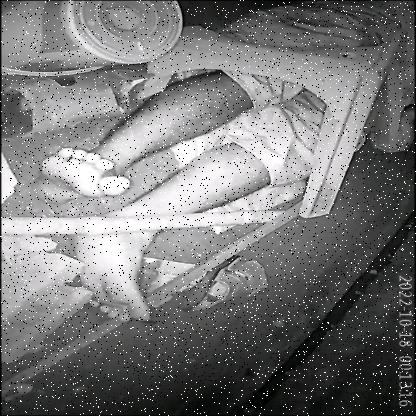leg: (55, 140, 276, 331), (25, 65, 254, 208)
